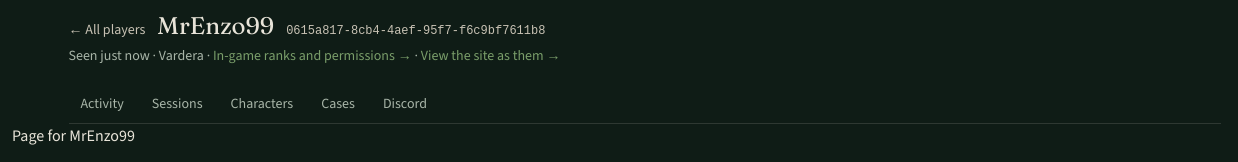
lets an admin view the site as a player with a site account
The image size is (1238, 162).
Step 1. Click the button "View the site as them →" → (491, 56), box [421,46,560,66]
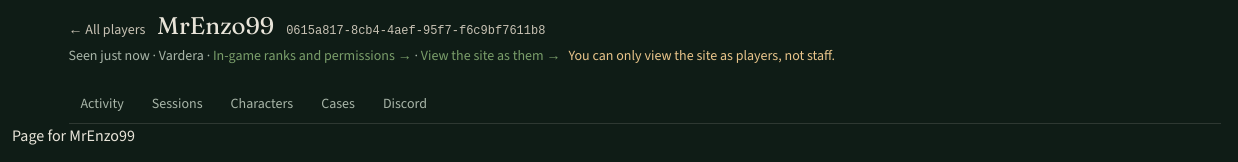
Result: the message reads "You can only view the site as players, not staff." at [568,46,835,65]
